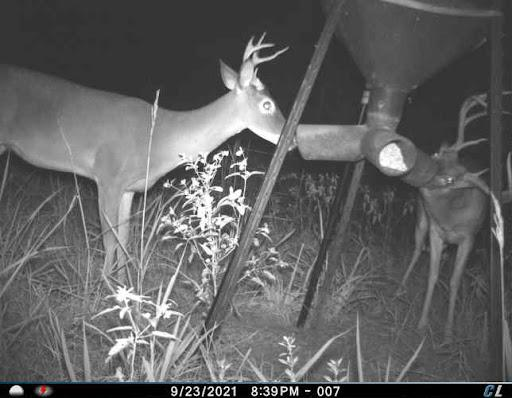Deer: (0, 24, 299, 299), (405, 85, 512, 349)
